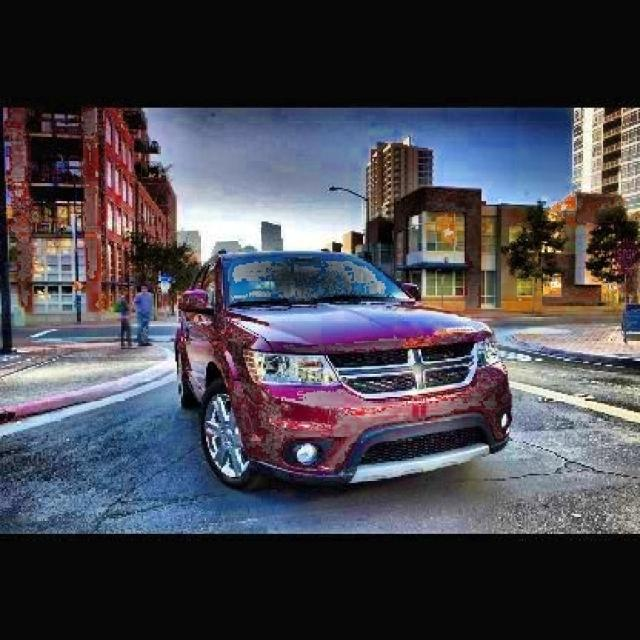maroon: (171, 254, 507, 483)
